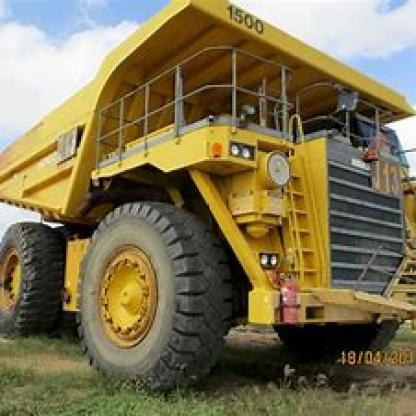dump_truck: (11, 4, 414, 385)
